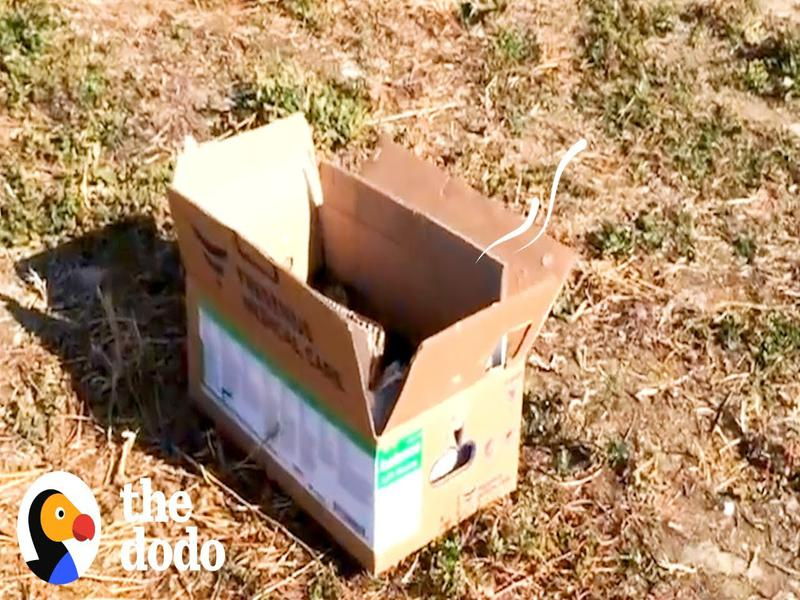cardboard: (156, 113, 595, 578)
